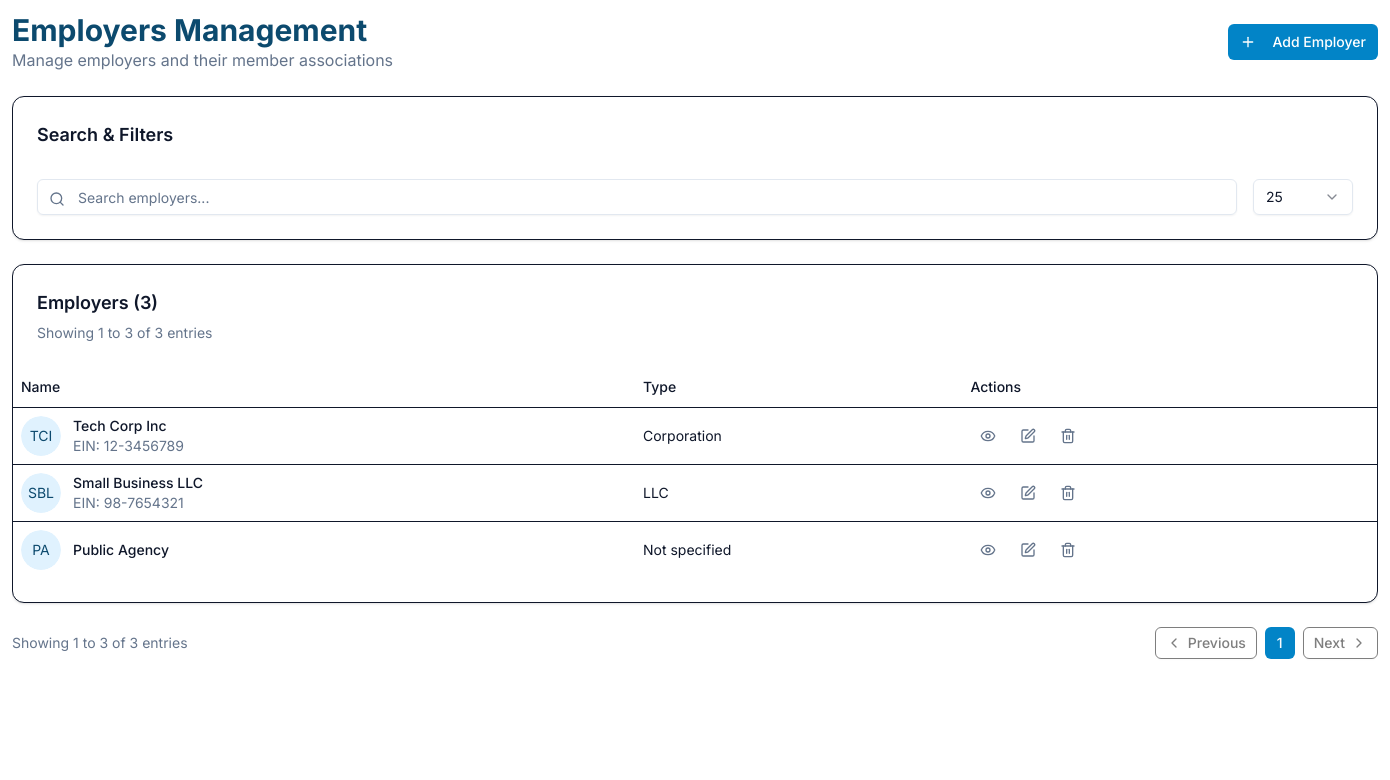
Test: EmployersPage › Search Functionality › should show "no results" message when search returns empty
Expected: the text "Tech Corp Inc" is shown, [73,416,166,434]
Type "nonexistent" into the field with placeholder "Search employers..." at coordinates (637, 197), box [37,179,1237,215]
Wait 300 ms
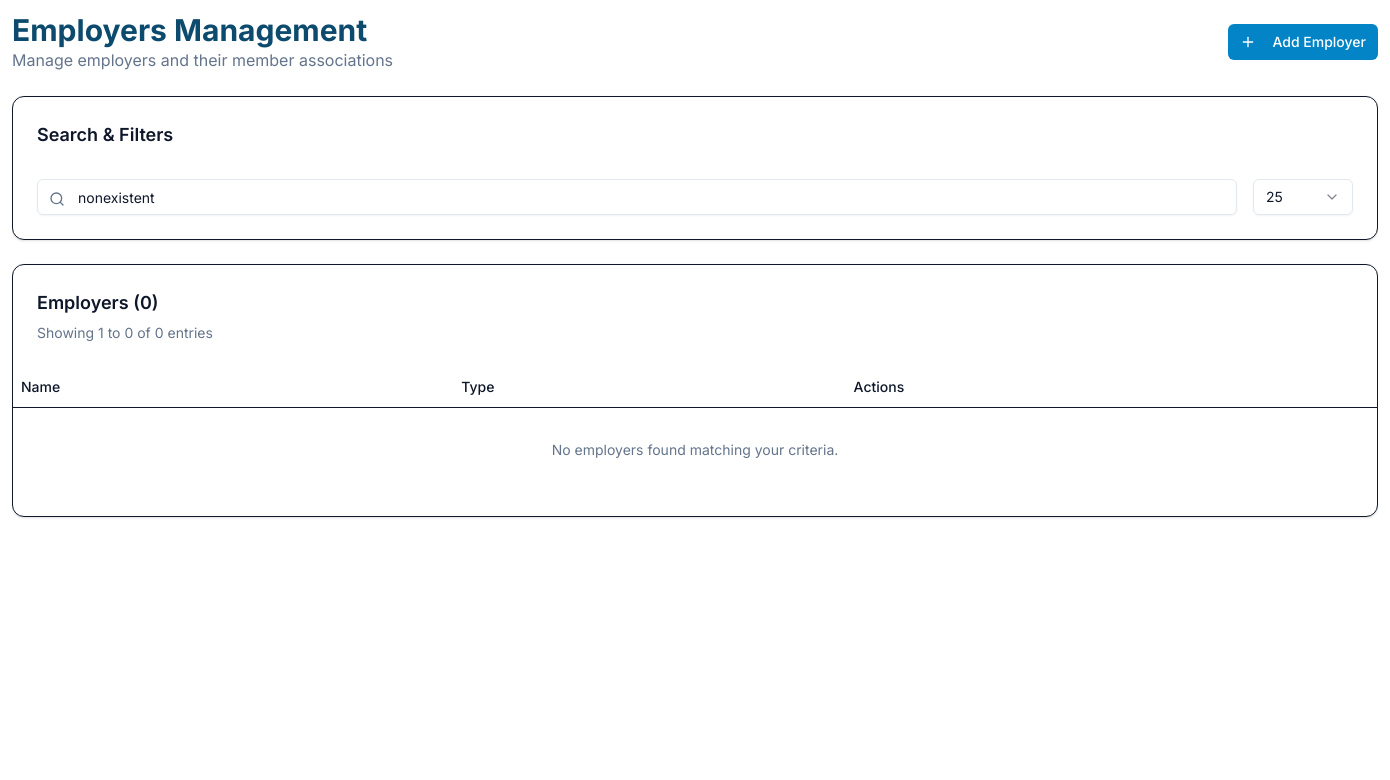
Result: the text "No employers found matching your criteria." is shown at [13,407,1377,492]
